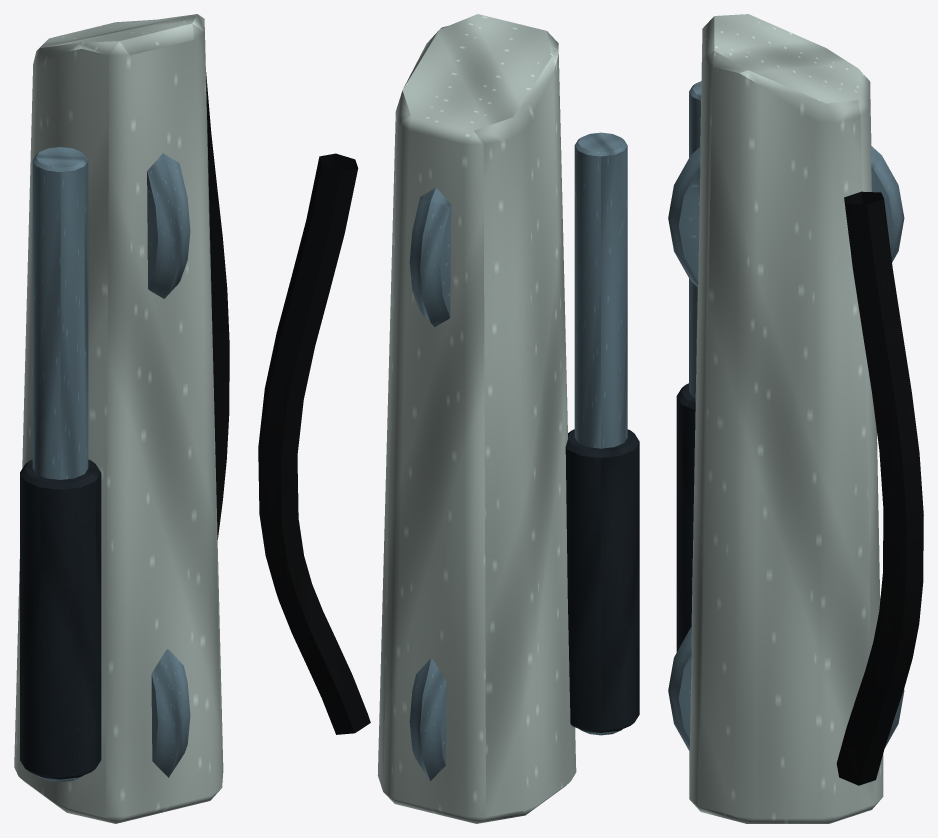
The model's file is Repair_Upper_V2.fbx.
3 renders of one model, left to right at view 1: azimuth 30°, elevation 25°; view 2: azimuth 150°, elevation 25°; view 3: azimuth 270°, elevation 25°, orthographic. The views are drawn at different scales.
Parts seen in each view (by area): view 1: Repair_Upper_V2; view 2: Repair_Upper_V2; view 3: Repair_Upper_V2.
Boxes of the visible parts, x1=… form: Repair_Upper_V2: x1=14, y1=14, x2=229, y2=823; Repair_Upper_V2: x1=258, y1=14, x2=639, y2=823; Repair_Upper_V2: x1=668, y1=14, x2=923, y2=823.
Bounding box in the file's own units: 0.4327 × 1.08 × 0.3286.
